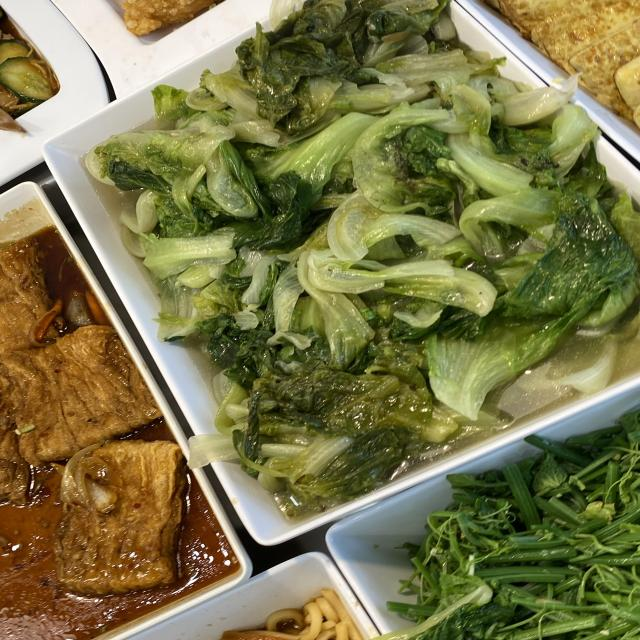Fushan-lettuce: (173, 106, 548, 343)
